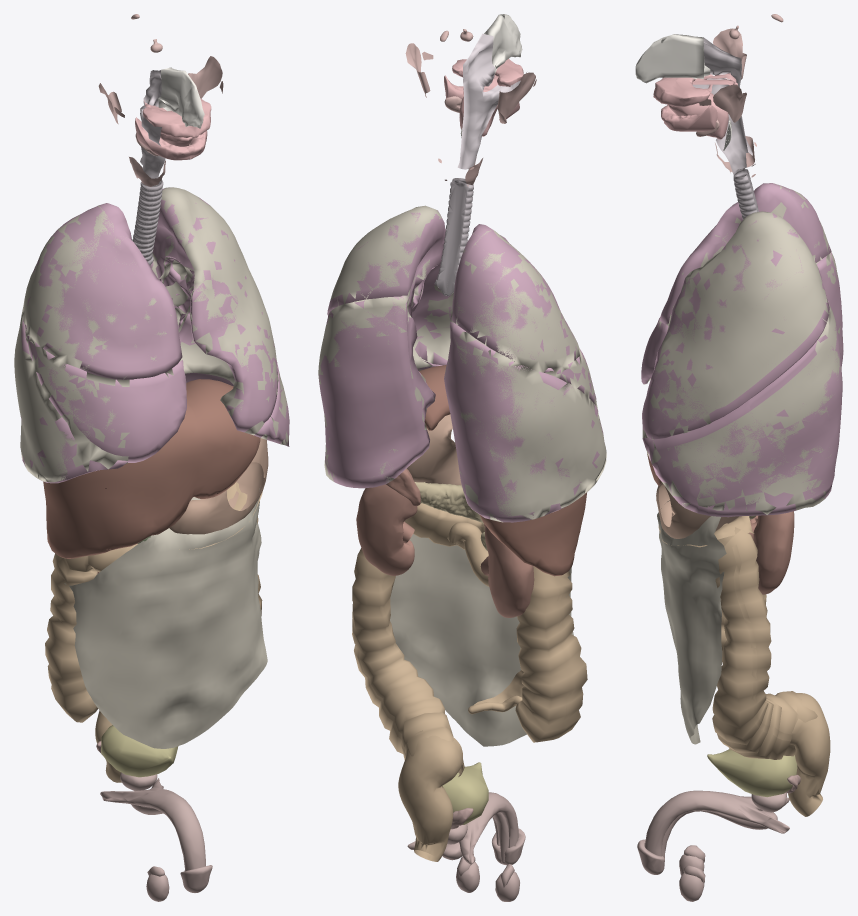
The model's file is organs.glb.
The picture shows the model from 3 angles, left to right: view 1: azimuth 30°, elevation 25°; view 2: azimuth 150°, elevation 25°; view 3: azimuth 270°, elevation 25°; orthographic projection. The views are drawn at different scales.
Visible parts, largest first — view 1: torso, head, neck; view 2: torso, head, neck; view 3: torso, head, neck.
Boxes of the visible parts, x1,y1,x2,y2 form: torso: (14,177,289,901); head: (98,14,223,160); neck: (129,70,165,186); torso: (318,178,606,901); head: (405,14,536,136); neck: (438,33,526,186); torso: (637,168,843,901); head: (635,14,783,139); neck: (692,37,756,177).
Size of the model in its own units: 0.2618 by 0.8933 by 0.192.
